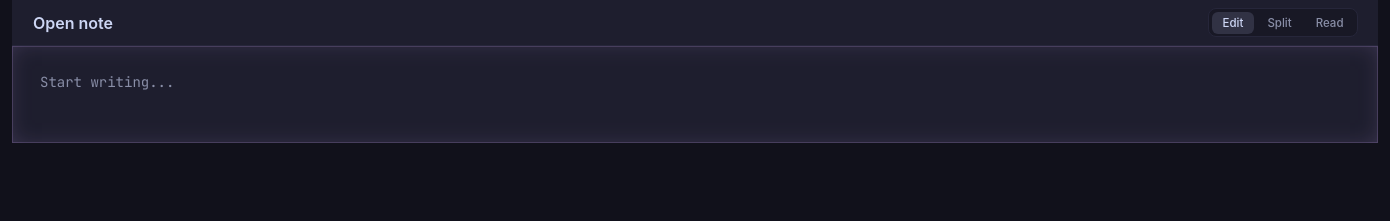
Scenario: Link autocomplete (#548) › moves with the arrow keys and inserts the pick on Enter as an undoable edit
Type "See [ [pla" into the text box with class "editor-textarea".
click(695, 94); type("See [ [pla")  # box [12,46,1378,143]
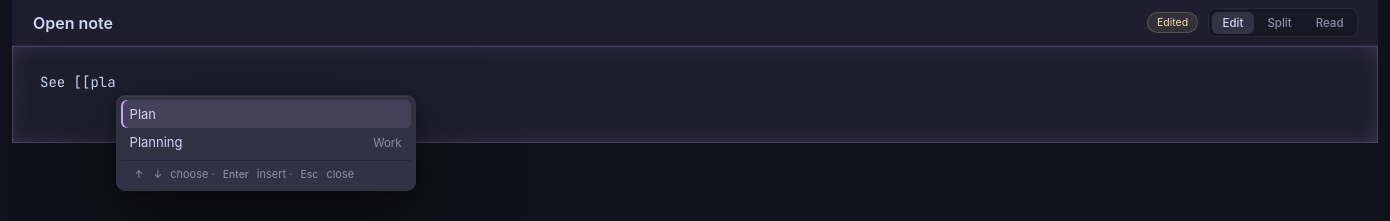
Check: the text with class "link-suggest-label" reads "Plan", box [130,106,156,122]
Press ArrowDown in the text box with class "editor-textarea", box [12,46,1378,143]
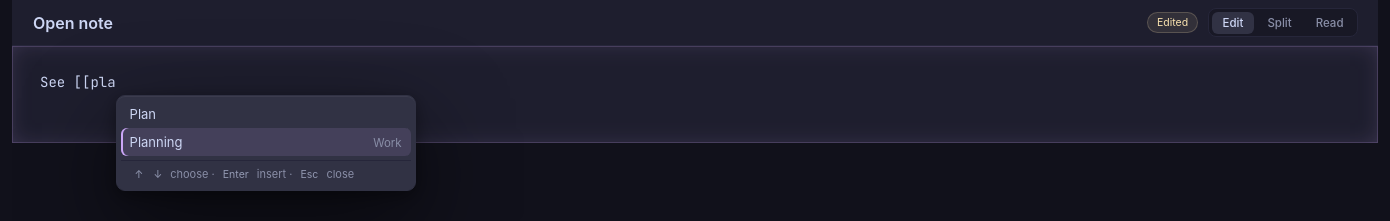
Check: the text with class "link-suggest-label" reads "Planning", box [130,134,182,150]
Press ArrowUp in the text box with class "editor-textarea", box [12,46,1378,143]
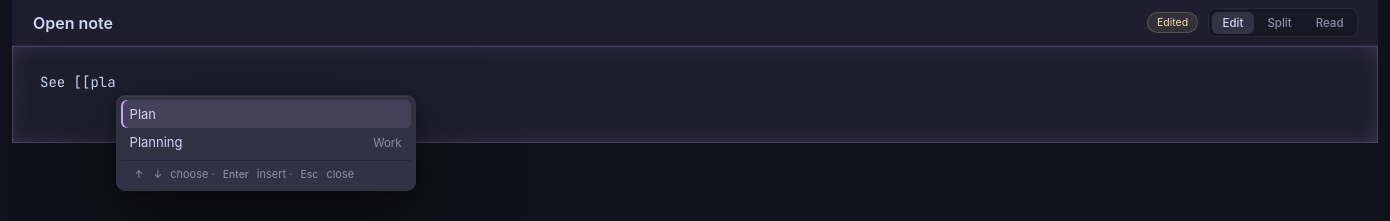
Press ArrowUp in the text box with class "editor-textarea", box [12,46,1378,143]
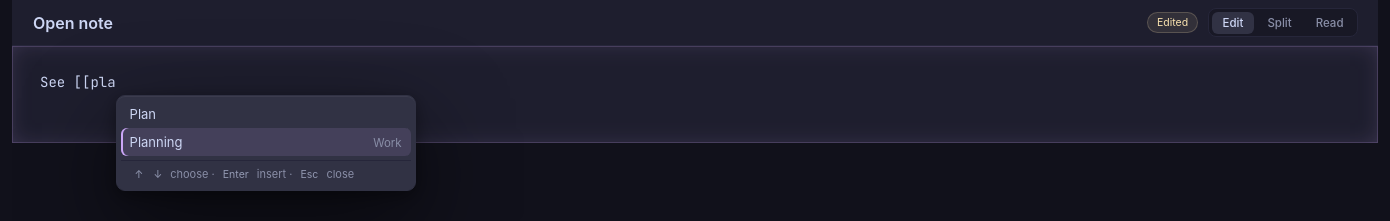
Check: the text with class "link-suggest-label" reads "Planning", box [130,134,182,150]
Press Enter in the text box with class "editor-textarea", box [12,46,1378,143]
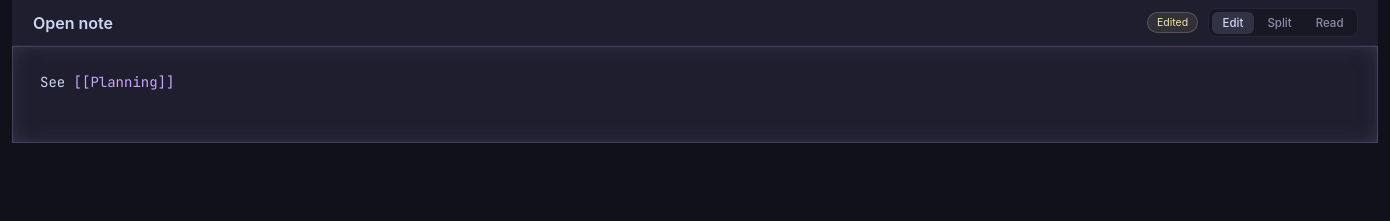
Check: the text box with class "editor-textarea" holds "See [ [Planning]]", box [12,46,1378,143]
Check: the list is gone
